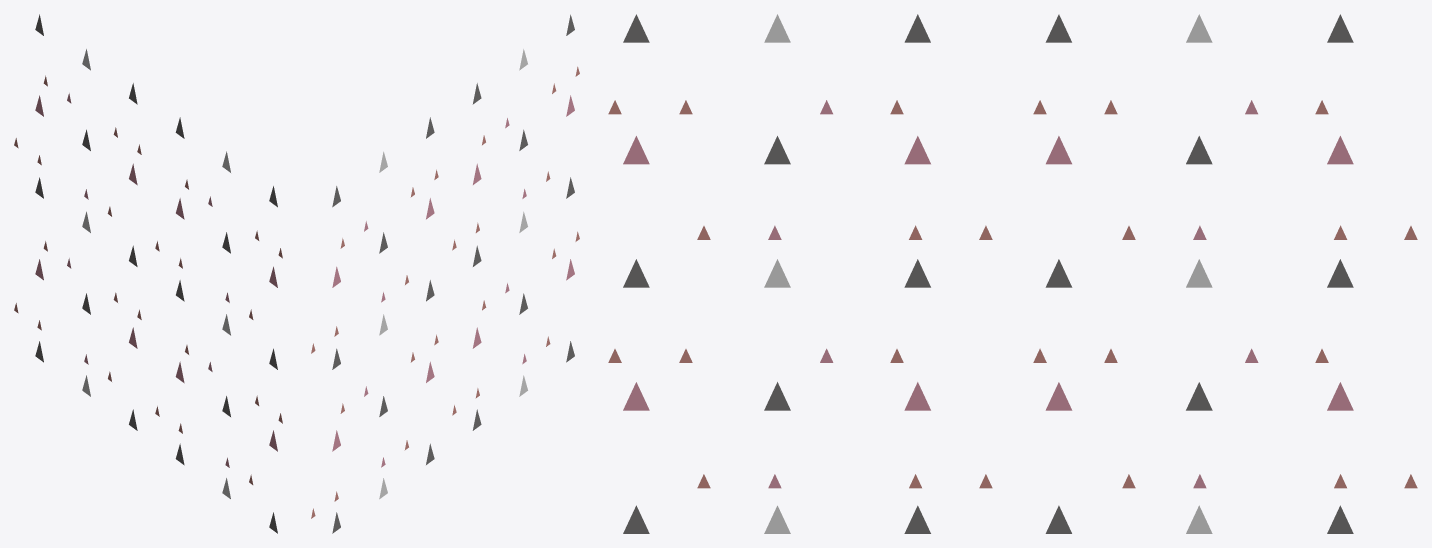
Rendered from Frun5_texturewall_color1.fbx.
3 views of the same model, side by side, from view 1: azimuth 30°, elevation 25°; view 2: azimuth 150°, elevation 25°; view 3: azimuth 270°, elevation 25° (orthographic). The views are drawn at different scales.
Parts seen in each view (by area): view 1: Окружность.100; view 2: Окружность.100; view 3: Окружность.100.
Part boxes in pixels (x1,y1,x2,y2): Окружность.100: [14, 14, 282, 533]; Окружность.100: [311, 14, 579, 533]; Окружность.100: [608, 14, 1417, 533].
Size of the model in its own units: 0.000107 by 572 by 808.
